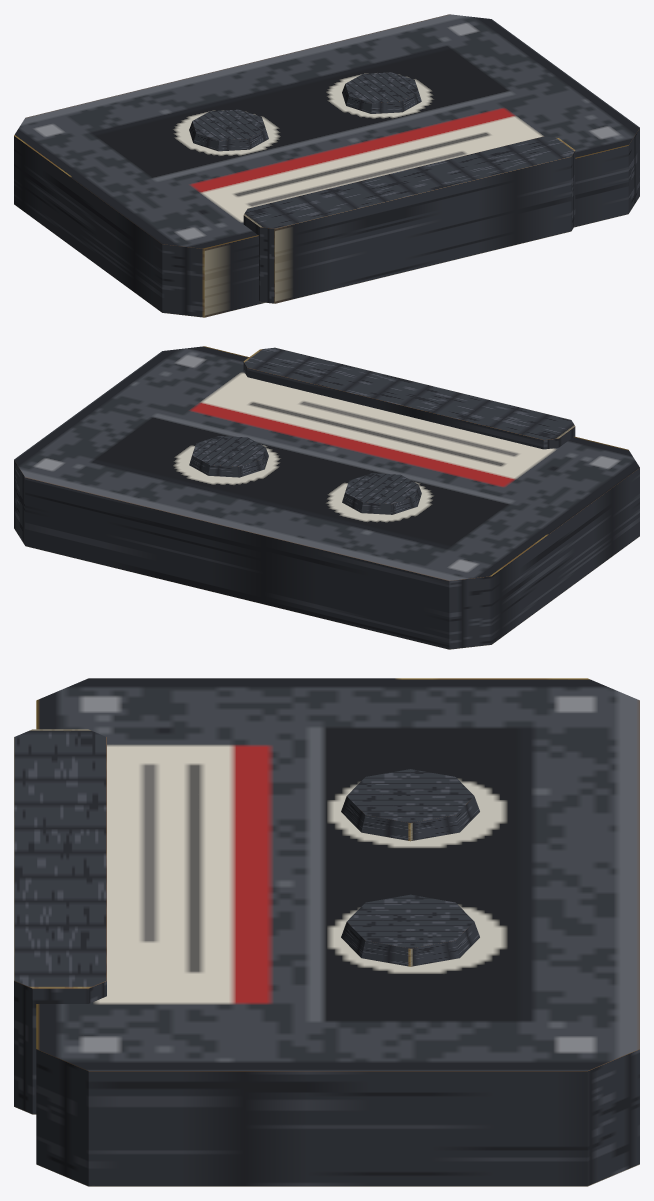
Rendered from Item_Tape_Rowan1.fbx.
3 renders of one model, top to bottom at view 1: azimuth 30°, elevation 25°; view 2: azimuth 150°, elevation 25°; view 3: azimuth 270°, elevation 25°, orthographic. The views are drawn at different scales.
Visible parts, largest first — view 1: Item_Tape_Rowan1; view 2: Item_Tape_Rowan1; view 3: Item_Tape_Rowan1.
Boxes of the visible parts, x1,y1,x2,y2 form: Item_Tape_Rowan1: (14,14,639,317); Item_Tape_Rowan1: (14,346,639,649); Item_Tape_Rowan1: (14,678,639,1186).
Bounding box in the file's own units: 16 × 2.5 × 10.78.
